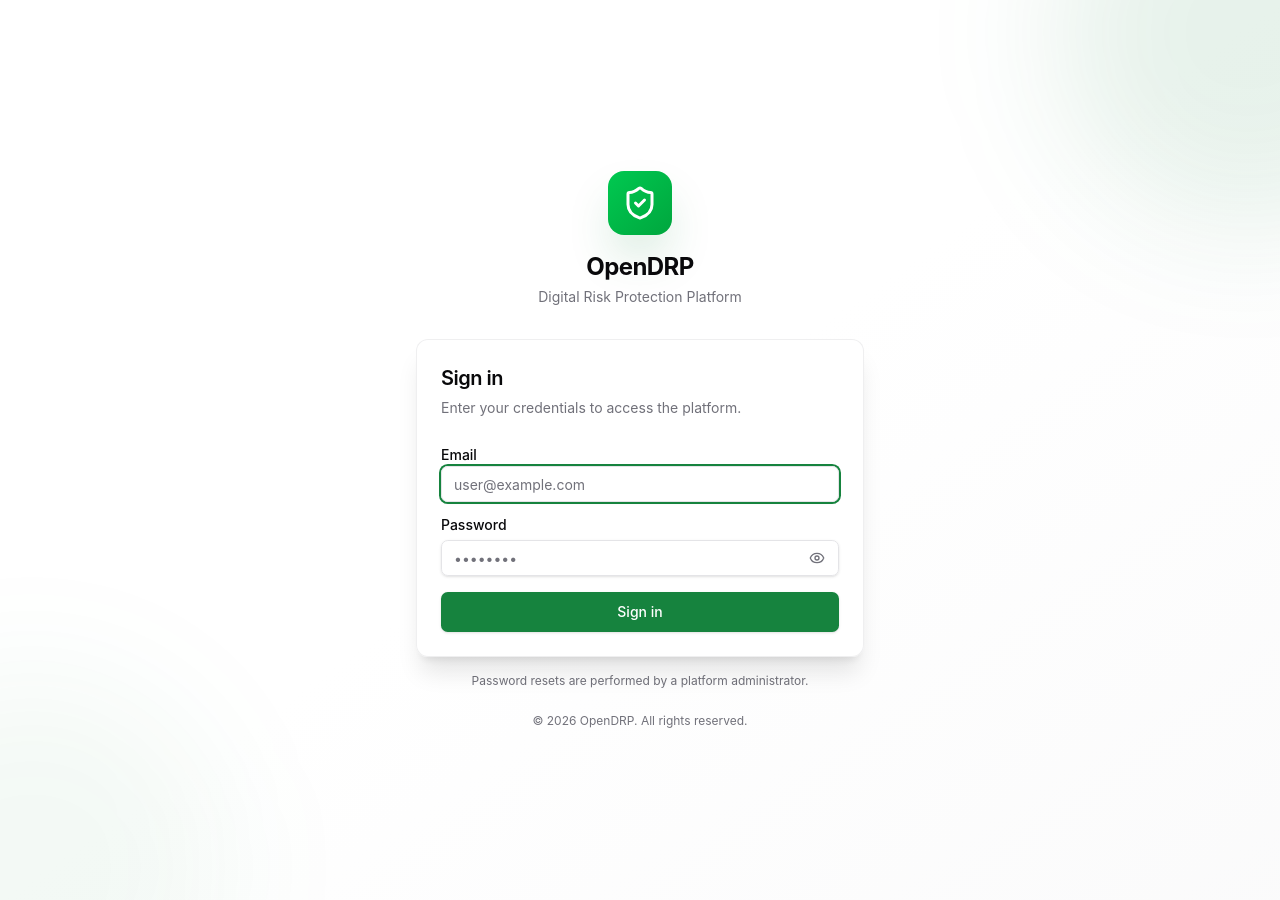
it: LoginPage › allows password visibility to be toggled without changing the value
In the password field labelled "Password": (640, 558) [441,540,839,576], type "Password123!"
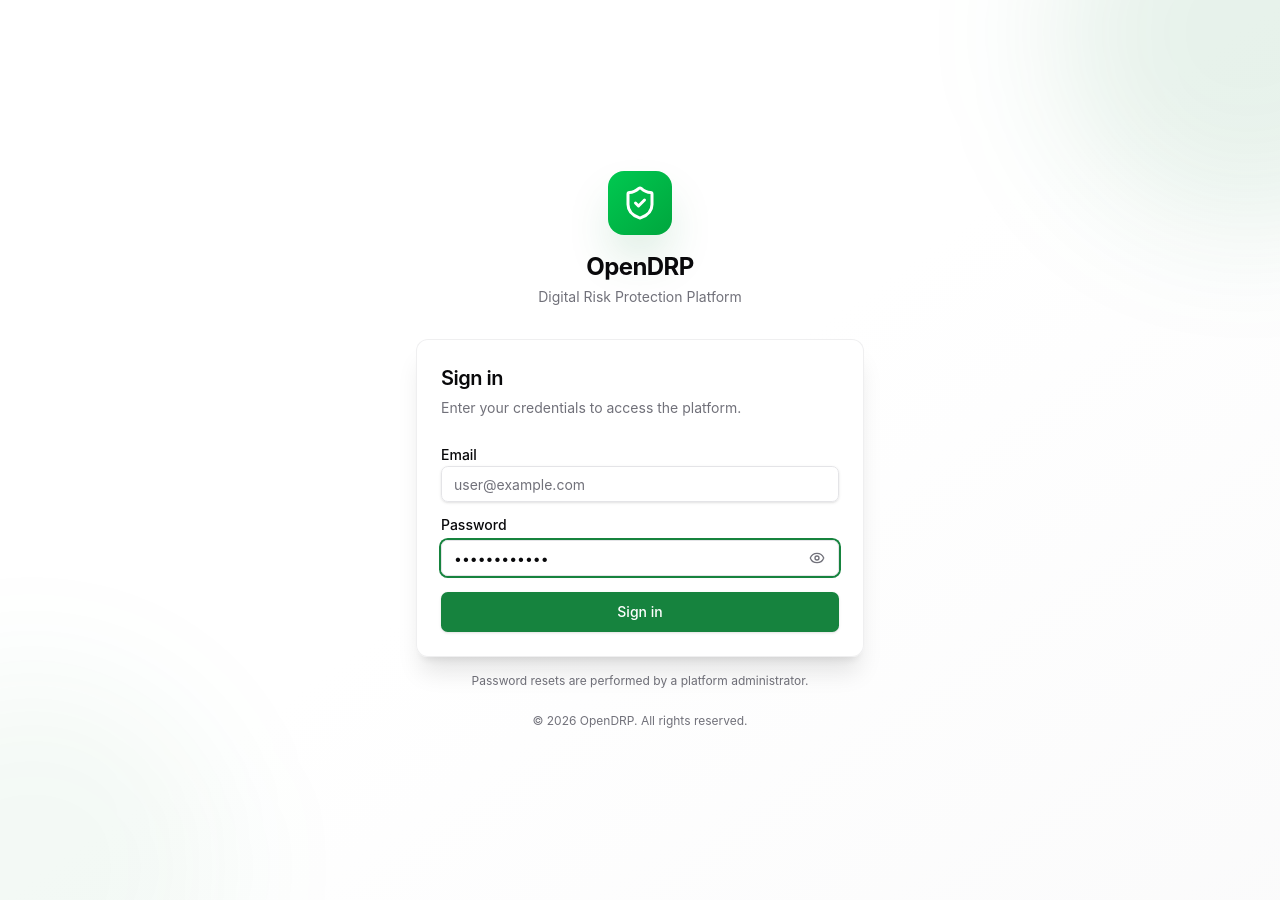
Click the button named "Show password": click(817, 558) [803,544,831,572]
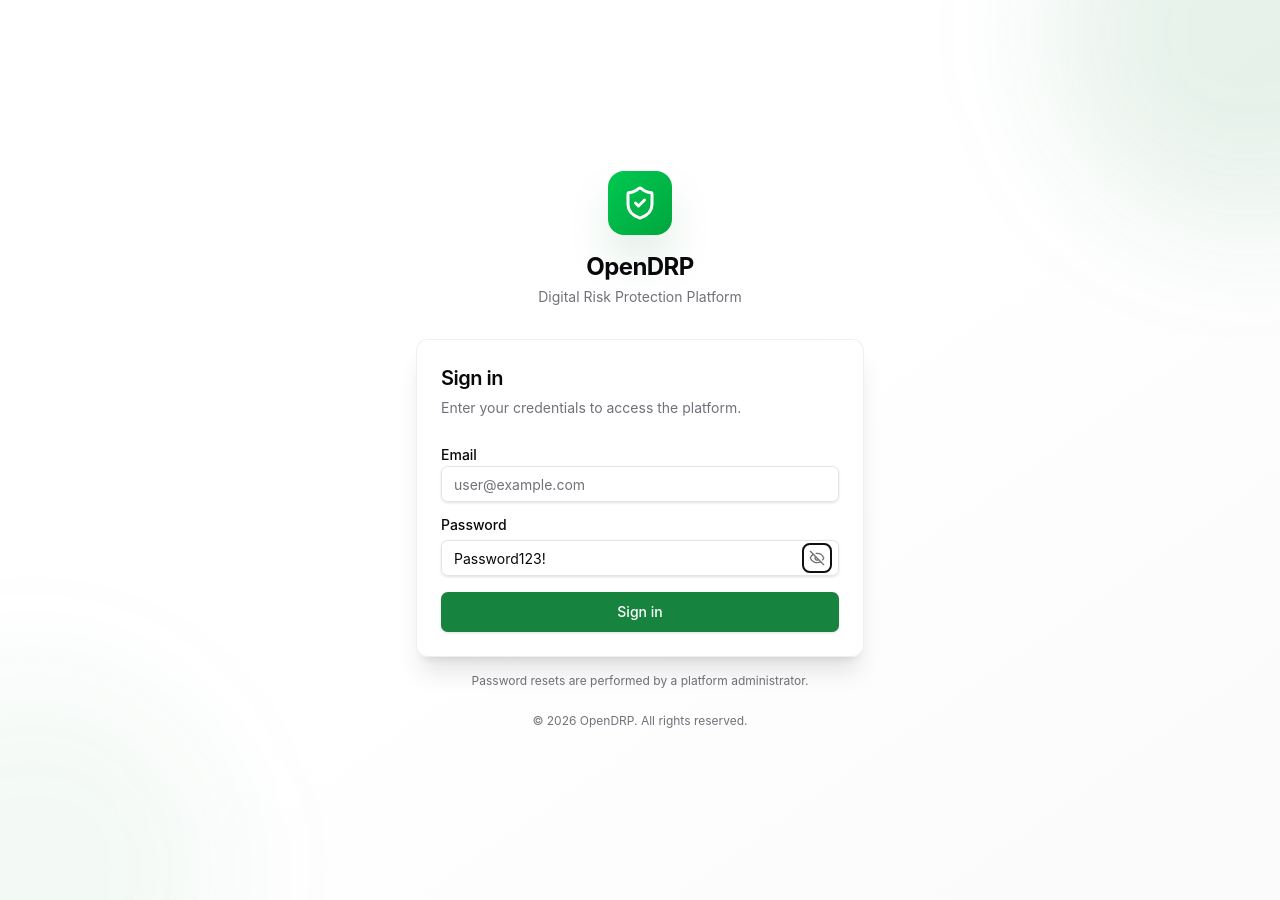
Result: the field labelled "Password" shows its text at [441,540,839,576]
